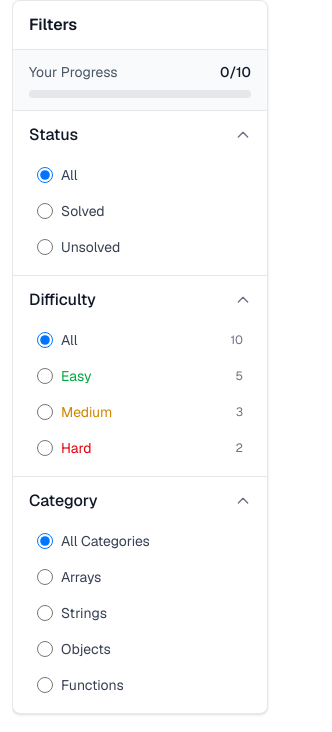
FilterSidebar › Collapsible sections › should collapse Difficulty section when clicking header
The image size is (332, 732).
Step 1. Click the button "Difficulty" → (140, 300), box [13,276,267,324]
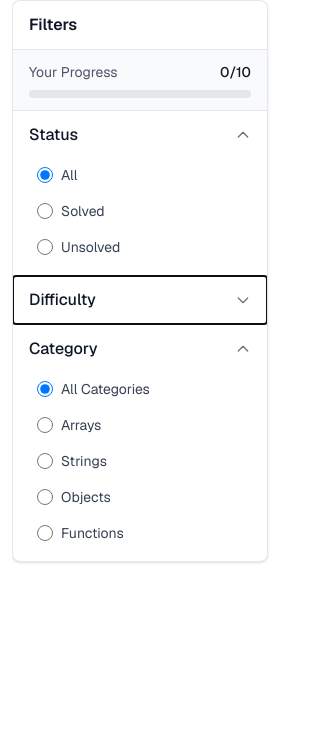
expect the text "Easy" is gone: met
expect the text "Medium" is gone: met
expect the text "Hard" is gone: met
